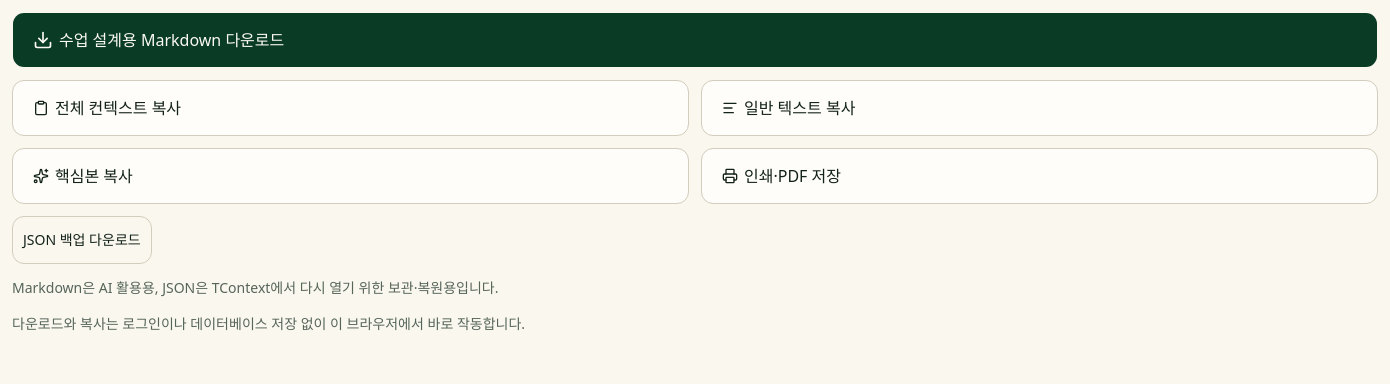
Scenario: downloads JSON without opening a database and reports download failure
The image size is (1390, 384).
Click the button "JSON 백업 다운로드": x=82, y=240 [12,216,152,264]
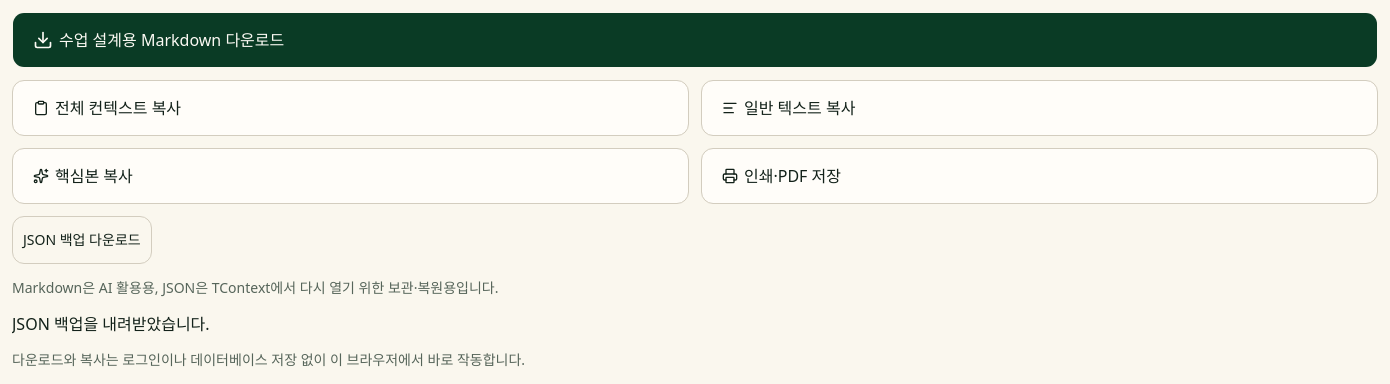
Now the message reads "JSON 백업을 내려받았습니다.", box [12,313,210,335]
Click the button "JSON 백업 다운로드": x=82, y=240 [12,216,152,264]
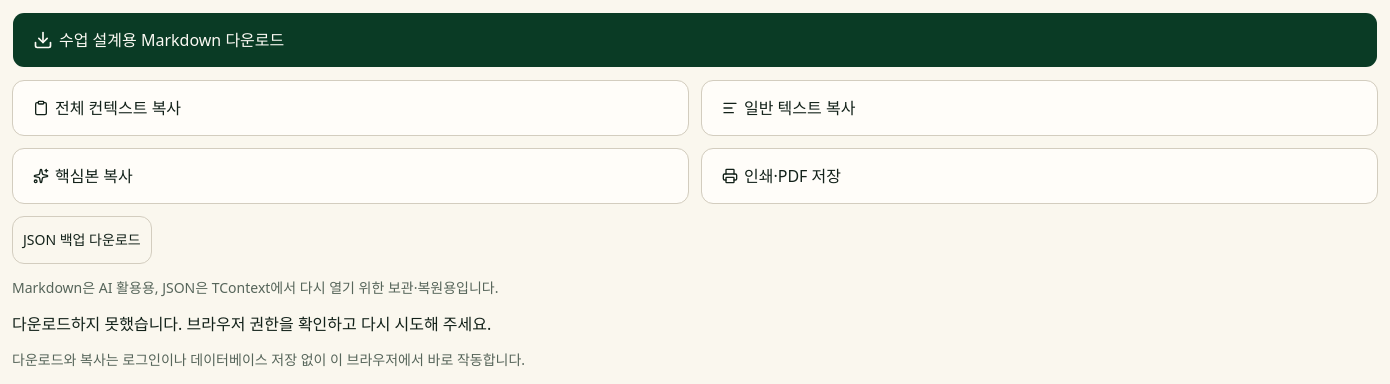
Now the message shows "다운로드하지 못했습니다", box [12,313,491,335]
